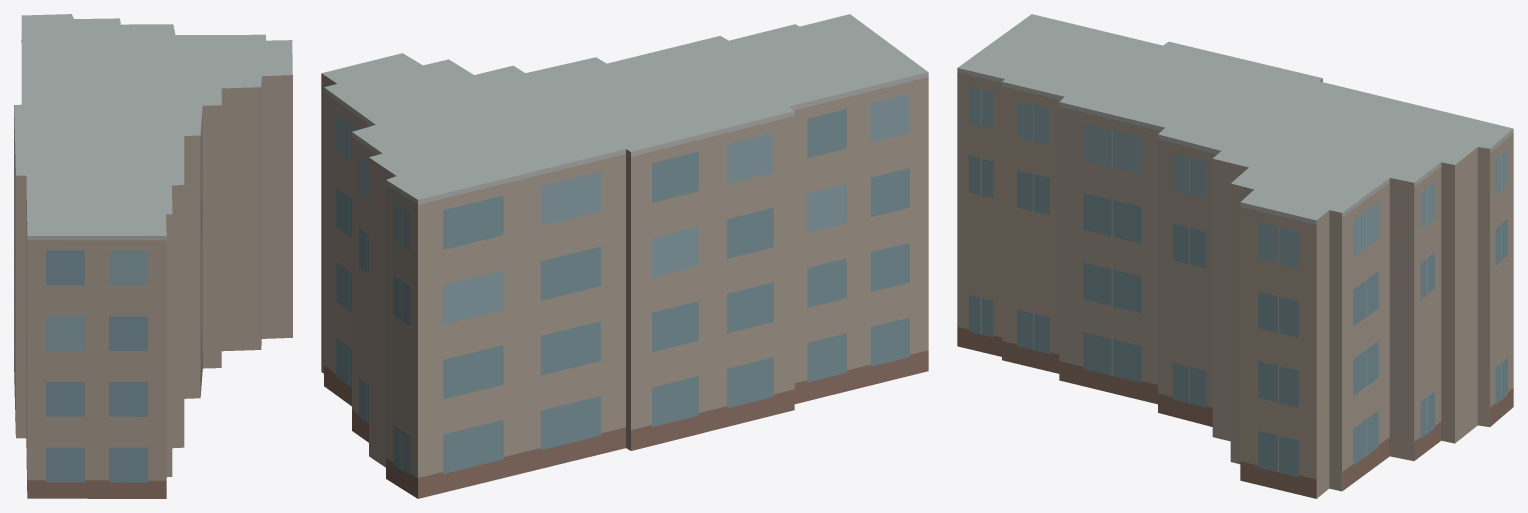
The model's file is survey-upis-32586443.glb.
3 views of the same model, side by side, from view 1: azimuth 30°, elevation 25°; view 2: azimuth 150°, elevation 25°; view 3: azimuth 270°, elevation 25° (orthographic). The views are drawn at different scales.
Parts seen in each view (by area): view 1: survey-upis-32586443.tmp; view 2: survey-upis-32586443.tmp; view 3: survey-upis-32586443.tmp.
Part boxes in pixels (x1,y1,x2,y2): survey-upis-32586443.tmp: [14, 14, 292, 498]; survey-upis-32586443.tmp: [321, 14, 928, 498]; survey-upis-32586443.tmp: [957, 14, 1513, 498].
Size of the model in its own units: 24.02 by 15.1 by 27.34.
